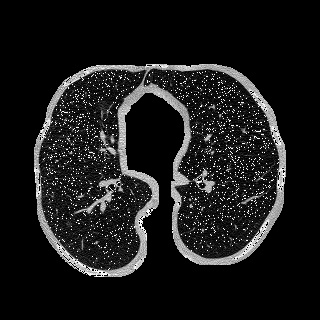PN: (66, 222, 70, 226)
